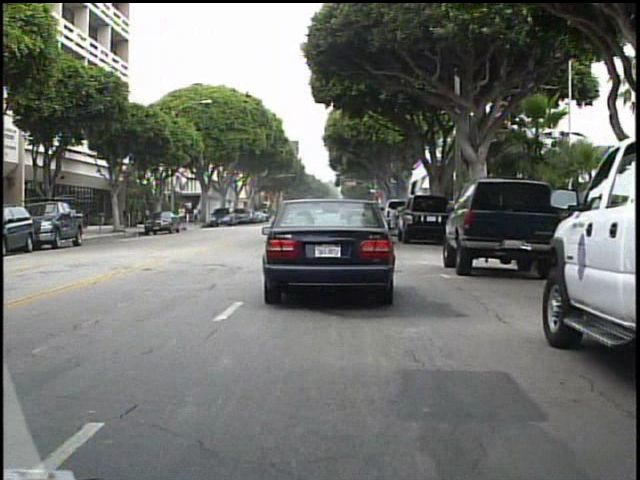person: (176, 202, 190, 227), (192, 202, 202, 226)
